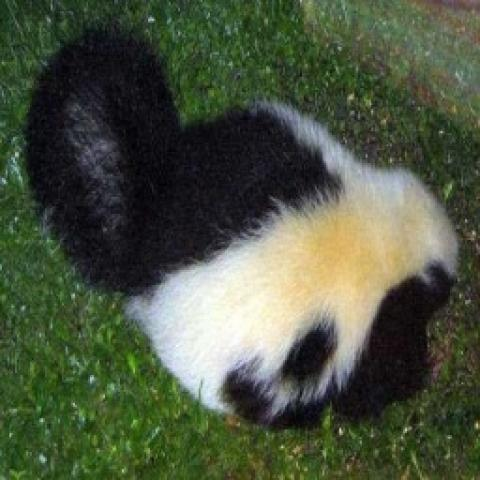small_animal: (17, 17, 463, 431)
